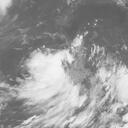cyclone: (22, 48, 83, 110)
